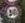limite 50: (3, 2, 22, 21)
